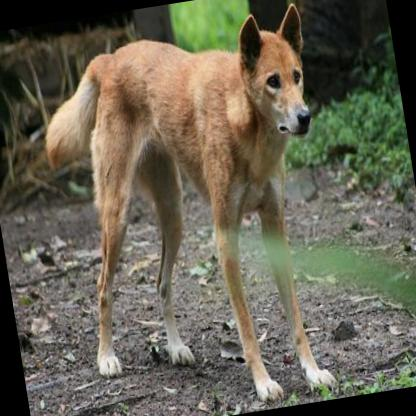dingo: (25, 0, 359, 416)
